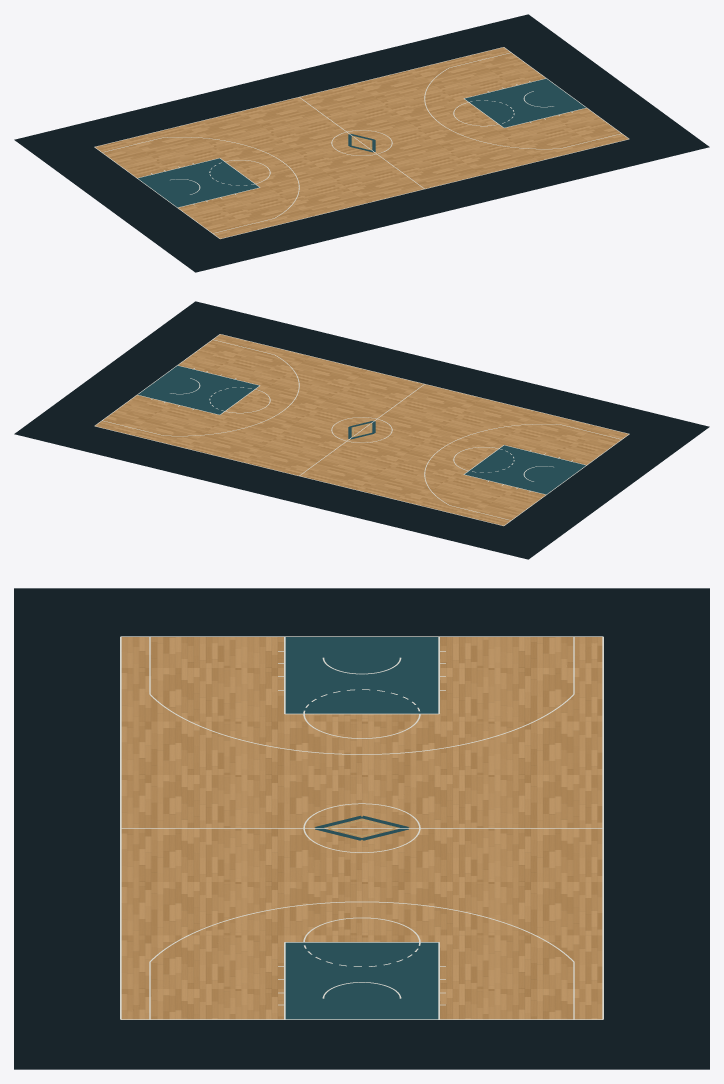
The model's file is court.glb.
The picture shows the model from 3 angles, top to bottom: view 1: azimuth 30°, elevation 25°; view 2: azimuth 150°, elevation 25°; view 3: azimuth 270°, elevation 25°; orthographic projection. The views are drawn at different scales.
Parts seen in each view (by area): view 1: court-surface, court-apron, painted-keys, court-lines; view 2: court-surface, court-apron, painted-keys, court-lines; view 3: court-surface, court-apron, painted-keys, court-lines.
Boxes of the visible parts, x1,y1,x2,y2 form: court-surface: (95,47,628,238); court-apron: (14,14,709,272); painted-keys: (138,78,585,207); court-lines: (94,47,629,238); court-surface: (95,334,628,525); court-apron: (14,301,709,559); painted-keys: (138,365,585,494); court-lines: (94,334,629,525); court-surface: (121,637,602,1019); court-apron: (14,588,709,1069); painted-keys: (285,637,438,1019); court-lines: (120,636,603,1019).
Size of the model in its own units: 36 by 0.028 by 22.
5 materials, 1 textured.
